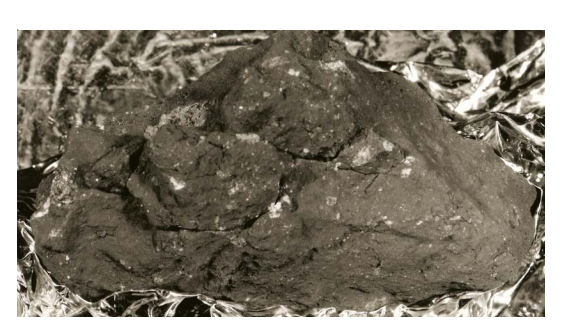Breccia: (214, 45, 509, 290), (80, 125, 518, 283)
